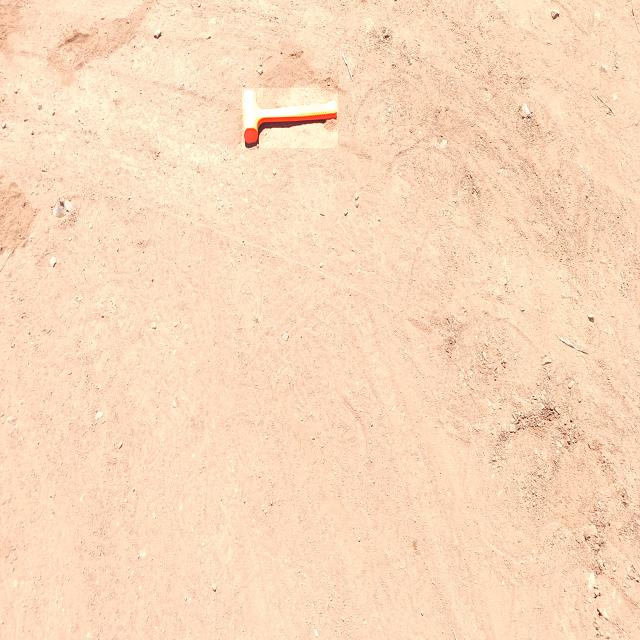Orange_hammer: (242, 88, 338, 148)
